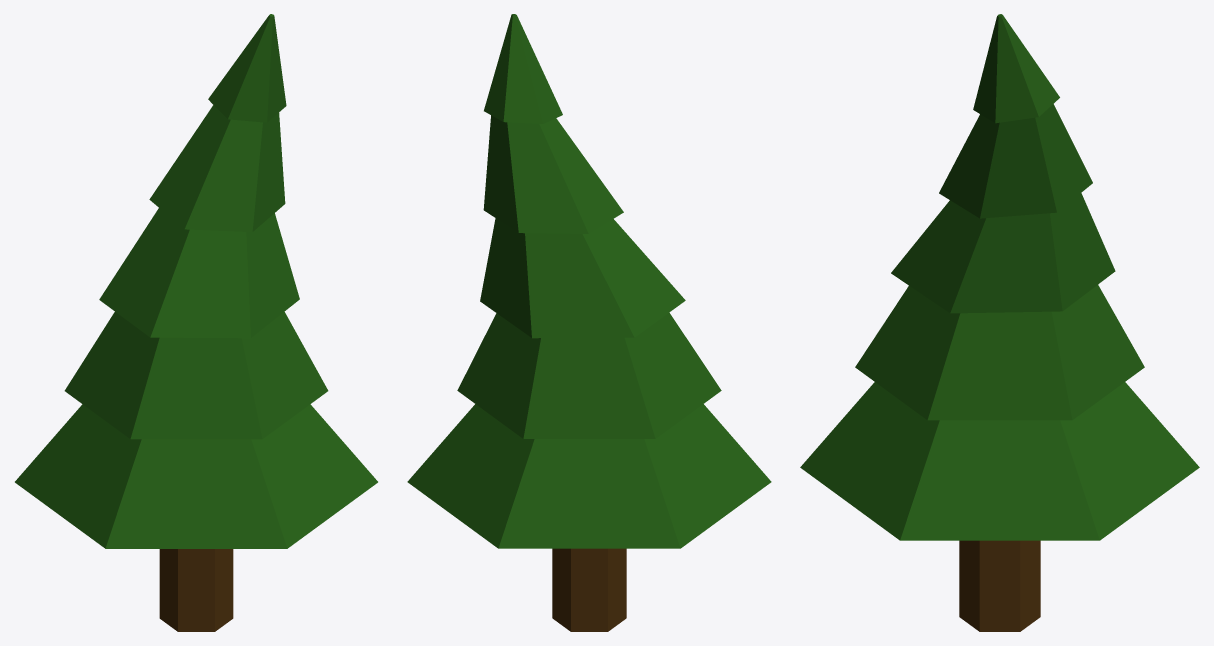
The model's file is Pino1.fbx.
The picture shows the model from 3 angles, left to right: view 1: azimuth 30°, elevation 25°; view 2: azimuth 150°, elevation 25°; view 3: azimuth 270°, elevation 25°; orthographic projection. The views are drawn at different scales.
Visible parts, largest first — view 1: Cylinder.002; view 2: Cylinder.002; view 3: Cylinder.002.
Boxes of the visible parts, left/top/right/bottom form: Cylinder.002: left=15, top=14, right=377, bottom=631; Cylinder.002: left=407, top=14, right=771, bottom=631; Cylinder.002: left=800, top=14, right=1199, bottom=631.
Bounding box in the file's own units: 426 × 873 × 492.
